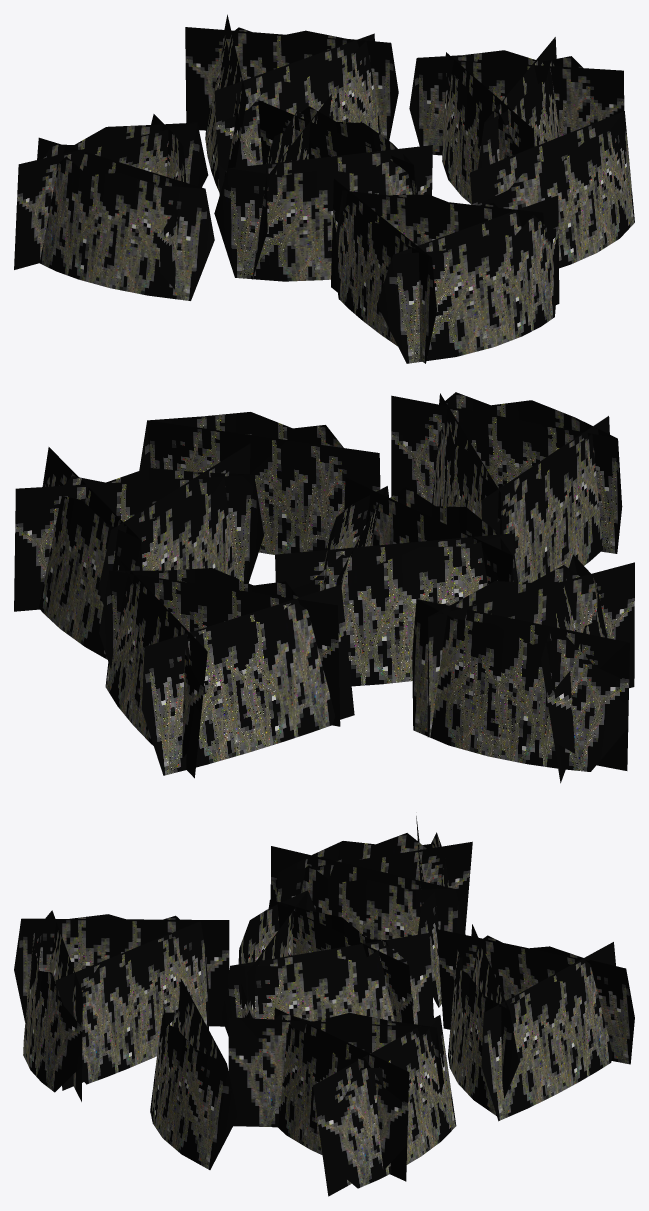
The model's file is grass_dry01.glb.
3 views of the same model, one above another, from view 1: azimuth 30°, elevation 25°; view 2: azimuth 150°, elevation 25°; view 3: azimuth 270°, elevation 25° (orthographic). The views are drawn at different scales.
Parts seen in each view (by area): view 1: Grass_Dry01_LOD0; view 2: Grass_Dry01_LOD0; view 3: Grass_Dry01_LOD0.
Boxes of the visible parts, x1,y1,x2,y2 form: Grass_Dry01_LOD0: [14, 14, 634, 363]; Grass_Dry01_LOD0: [14, 392, 634, 783]; Grass_Dry01_LOD0: [14, 816, 634, 1196].
Size of the model in its own units: 3.58 by 0.7014 by 3.42.
1 material, 1 textured.
